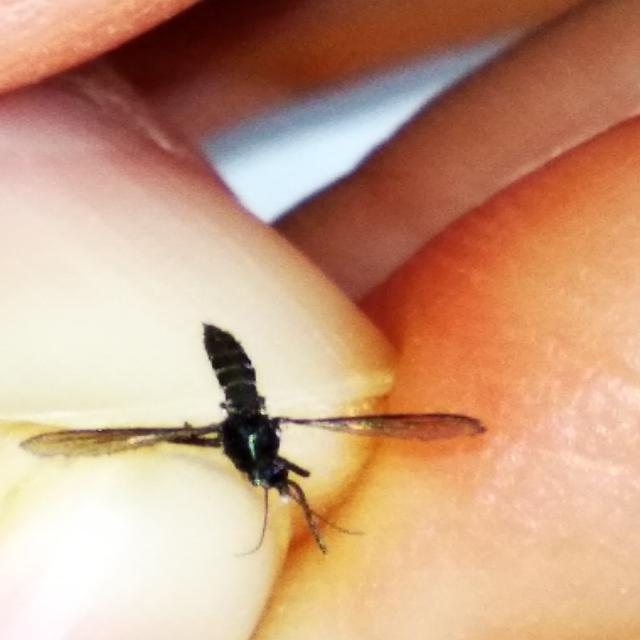albopictus: (43, 290, 472, 565)
